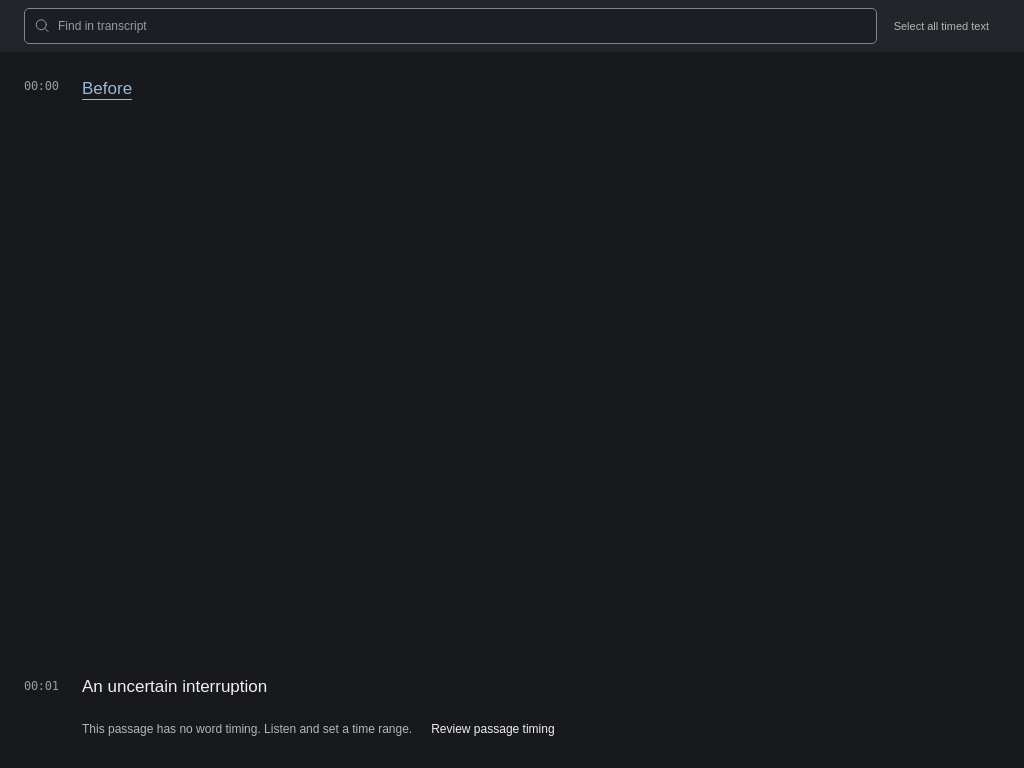
display-only transcript reading › does not join timed phrase matches across intervening display-only text
In the field labelled "Find in transcript": coordinates (462, 26) [58,15,866,37], type "before after"
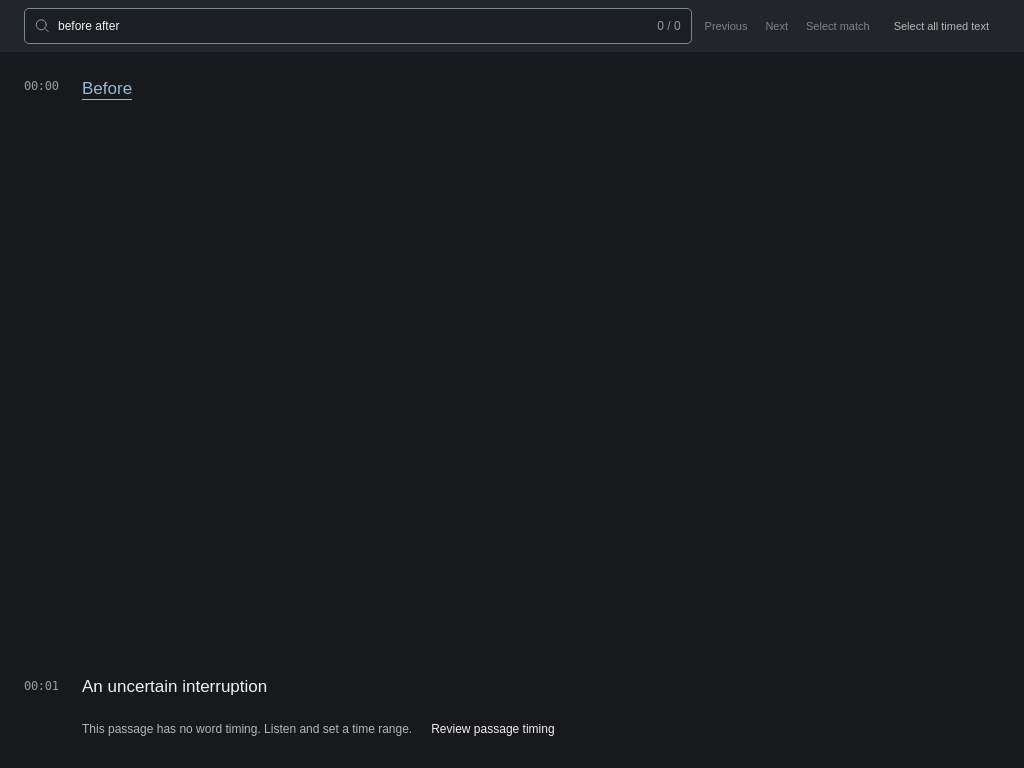
Expected: the text "0 / 0" is shown, [657,19,681,33]
Expected: the button "Select match" is disabled, [799,13,877,39]
